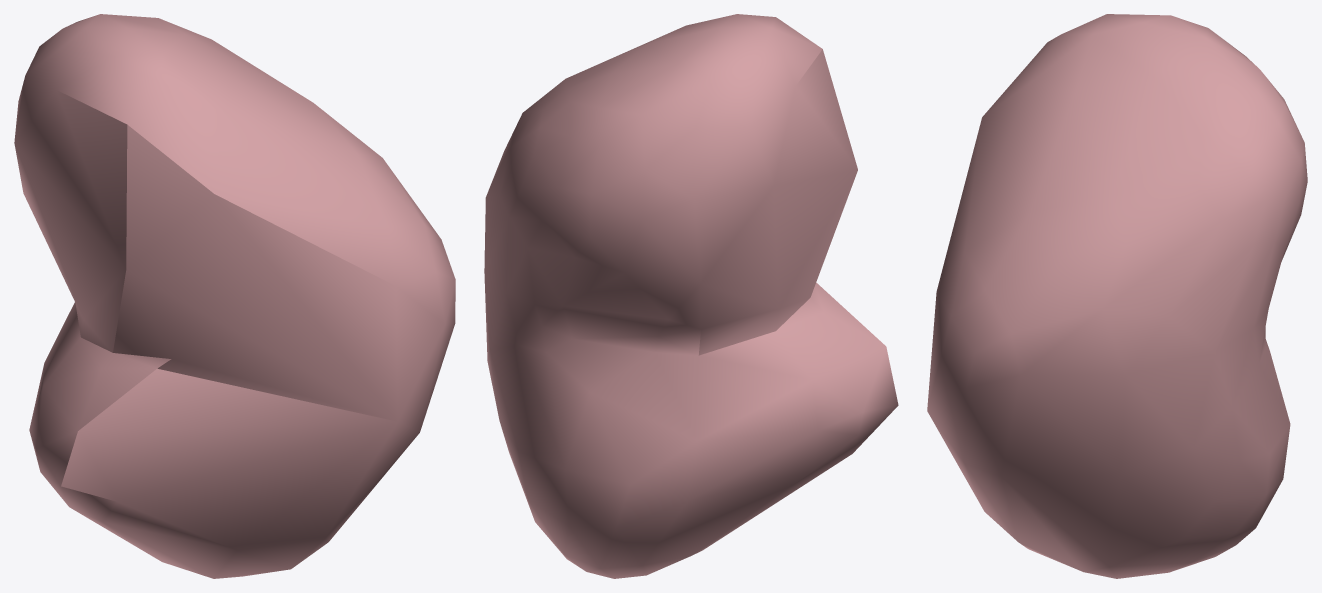
File: fma16983_fj2615.glb
3 views of the same model, side by side, from view 1: azimuth 30°, elevation 25°; view 2: azimuth 150°, elevation 25°; view 3: azimuth 270°, elevation 25° (orthographic). The views are drawn at different scales.
Parts seen in each view (by area): view 1: FMA16983_FJ2615; view 2: FMA16983_FJ2615; view 3: FMA16983_FJ2615.
Boxes of the visible parts, x1,y1,x2,y2 form: FMA16983_FJ2615: (14, 14, 455, 578); FMA16983_FJ2615: (484, 14, 898, 578); FMA16983_FJ2615: (927, 14, 1307, 578).
Size of the model in its own units: 0.0266 by 0.0379 by 0.0256.
